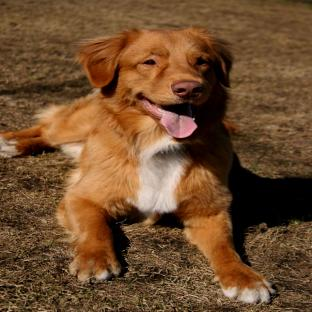Animal: (0, 27, 274, 303)
